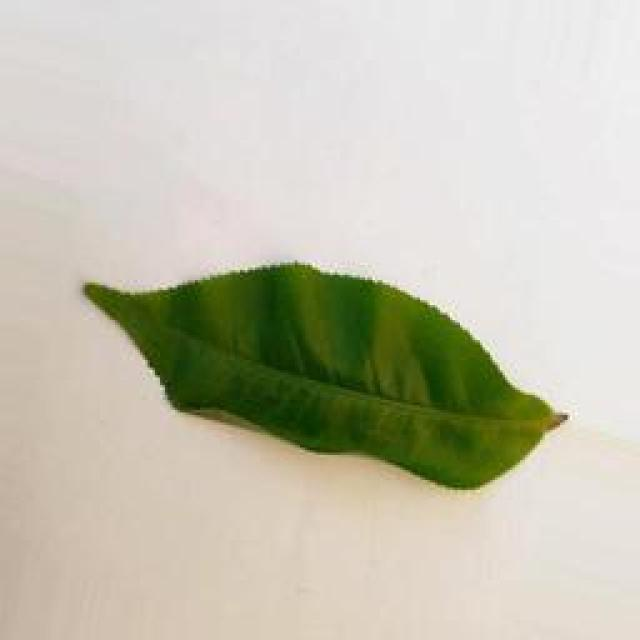Healthy: (72, 256, 566, 492)
